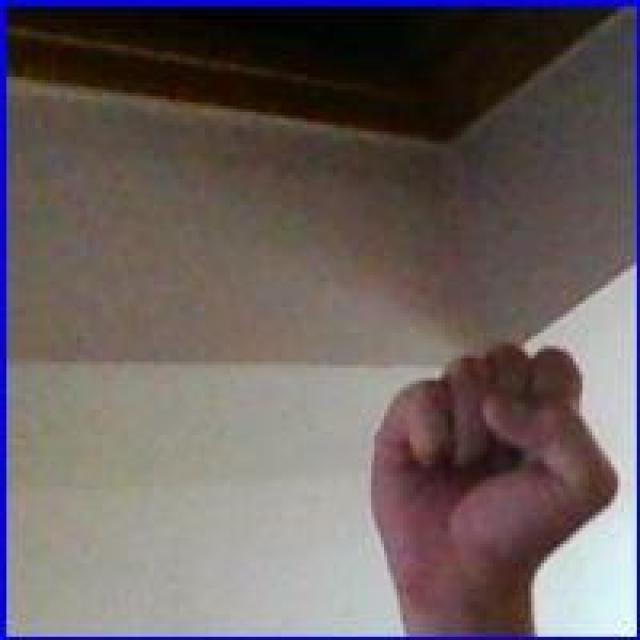S: (362, 334, 627, 604)
